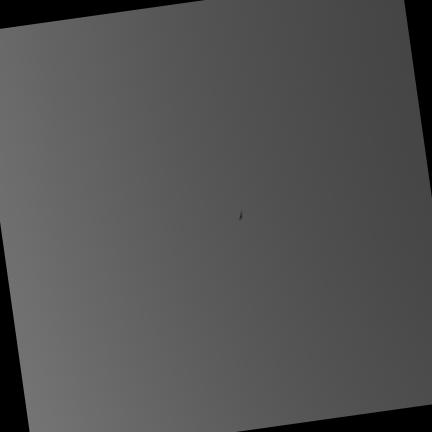Shahed: (236, 209, 243, 222)
